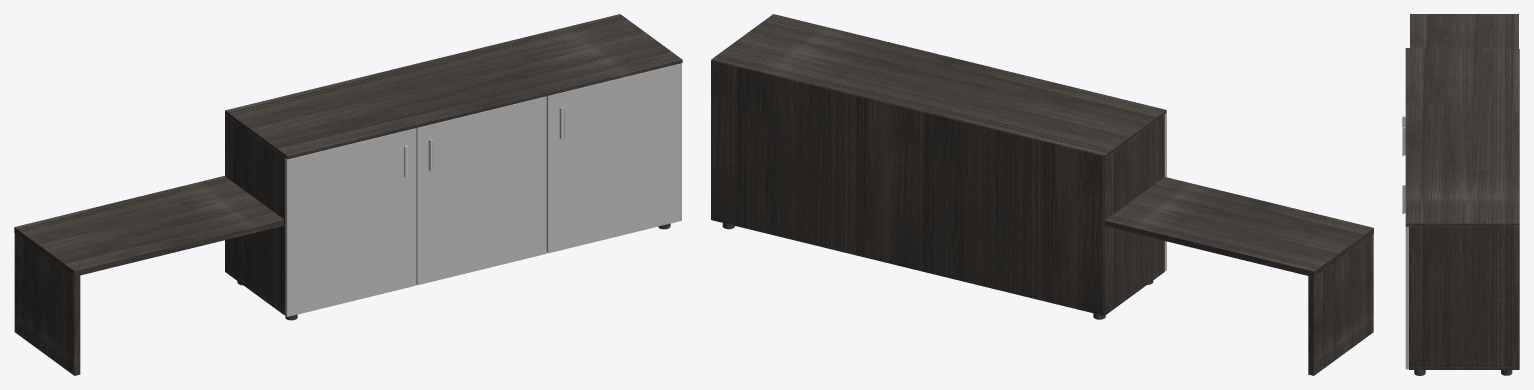
File: Cabinet.FBX
3 views of the same model, side by side, from view 1: azimuth 30°, elevation 25°; view 2: azimuth 150°, elevation 25°; view 3: azimuth 270°, elevation 25° (orthographic). The views are drawn at different scales.
Parts seen in each view (by area): view 1: cabinet; view 2: cabinet; view 3: cabinet.
Boxes of the visible parts, x1,y1,x2,y2 form: cabinet: (14, 14, 682, 375); cabinet: (711, 14, 1373, 375); cabinet: (1402, 14, 1519, 375).
Bounding box in the file's own units: 280 × 75.34 × 51.79.
3 materials, 2 textured.
